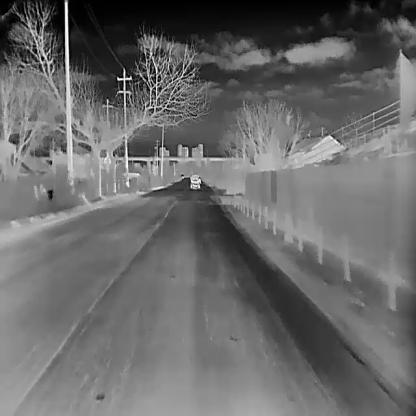car: (189, 173, 200, 189)
